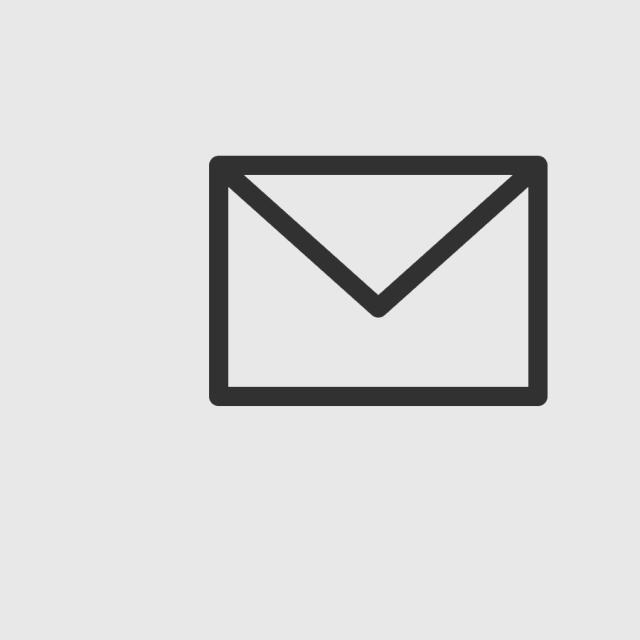letter: (202, 154, 551, 413)
